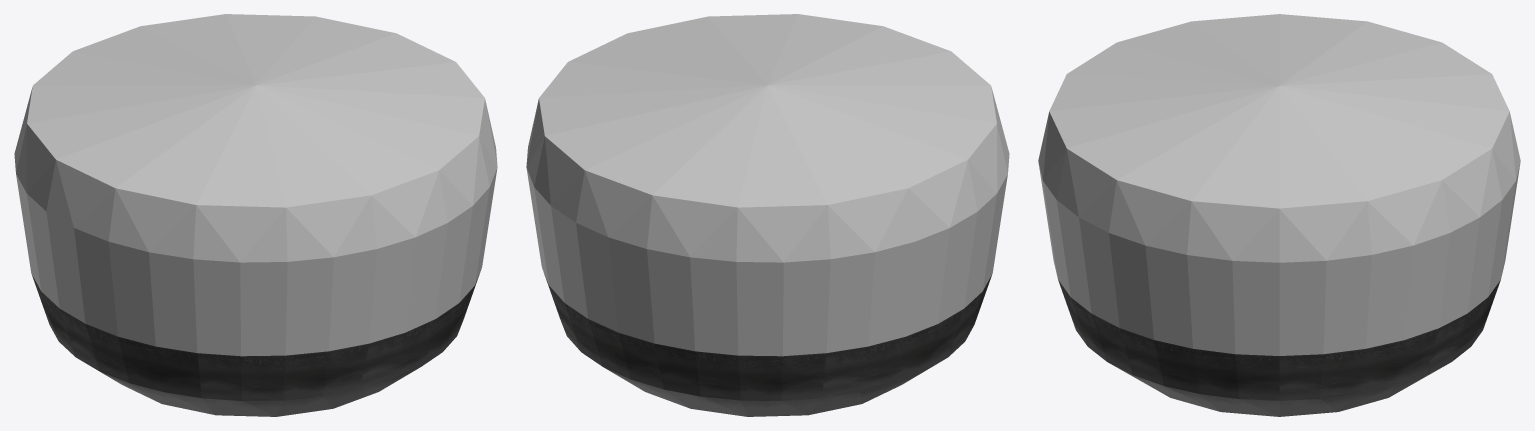
3 renders of one model, left to right at view 1: azimuth 30°, elevation 25°; view 2: azimuth 150°, elevation 25°; view 3: azimuth 270°, elevation 25°, orthographic.
Parts seen in each view (by area): view 1: mesh00; view 2: mesh00; view 3: mesh00.
Boxes of the visible parts, bbox=[...] form: mesh00: bbox=[14, 14, 497, 416]; mesh00: bbox=[526, 14, 1009, 416]; mesh00: bbox=[1038, 14, 1520, 416].
Size of the model in its own units: 33084 by 21398 by 33083.
